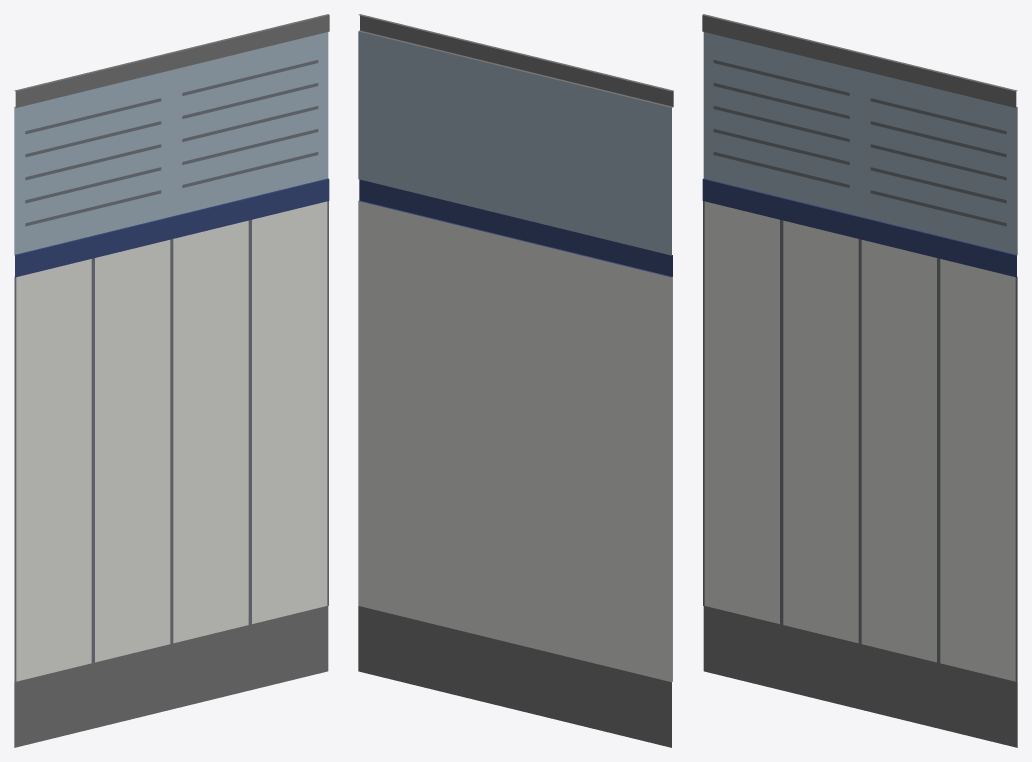
Rendered from mid-w1.fbx.
3 views of the same model, side by side, from view 1: azimuth 30°, elevation 25°; view 2: azimuth 150°, elevation 25°; view 3: azimuth 330°, elevation 25° (orthographic).
Parts seen in each view (by area): view 1: a1028/0/mid-w1; view 2: a1028/0/mid-w1; view 3: a1028/0/mid-w1.
Part boxes in pixels (x1,y1,x2,y2): a1028/0/mid-w1: (14,14,329,747); a1028/0/mid-w1: (358,14,673,747); a1028/0/mid-w1: (702,14,1017,747).
Size of the model in its own units: 6 by 12 by 0.05.
